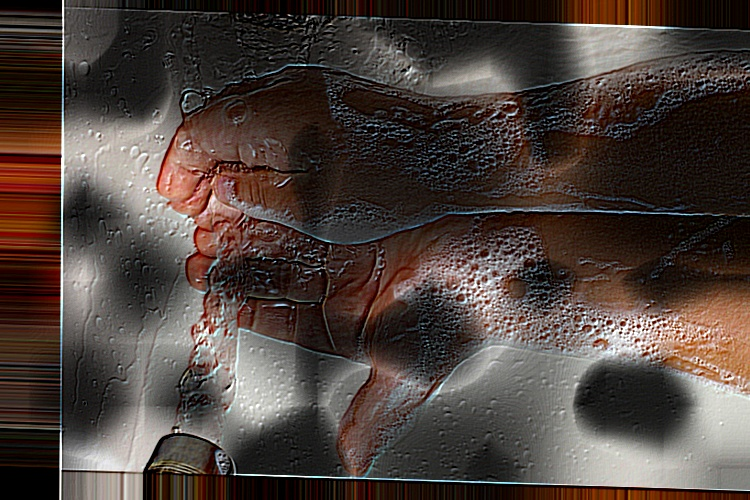washing hand: (91, 48, 648, 475)
